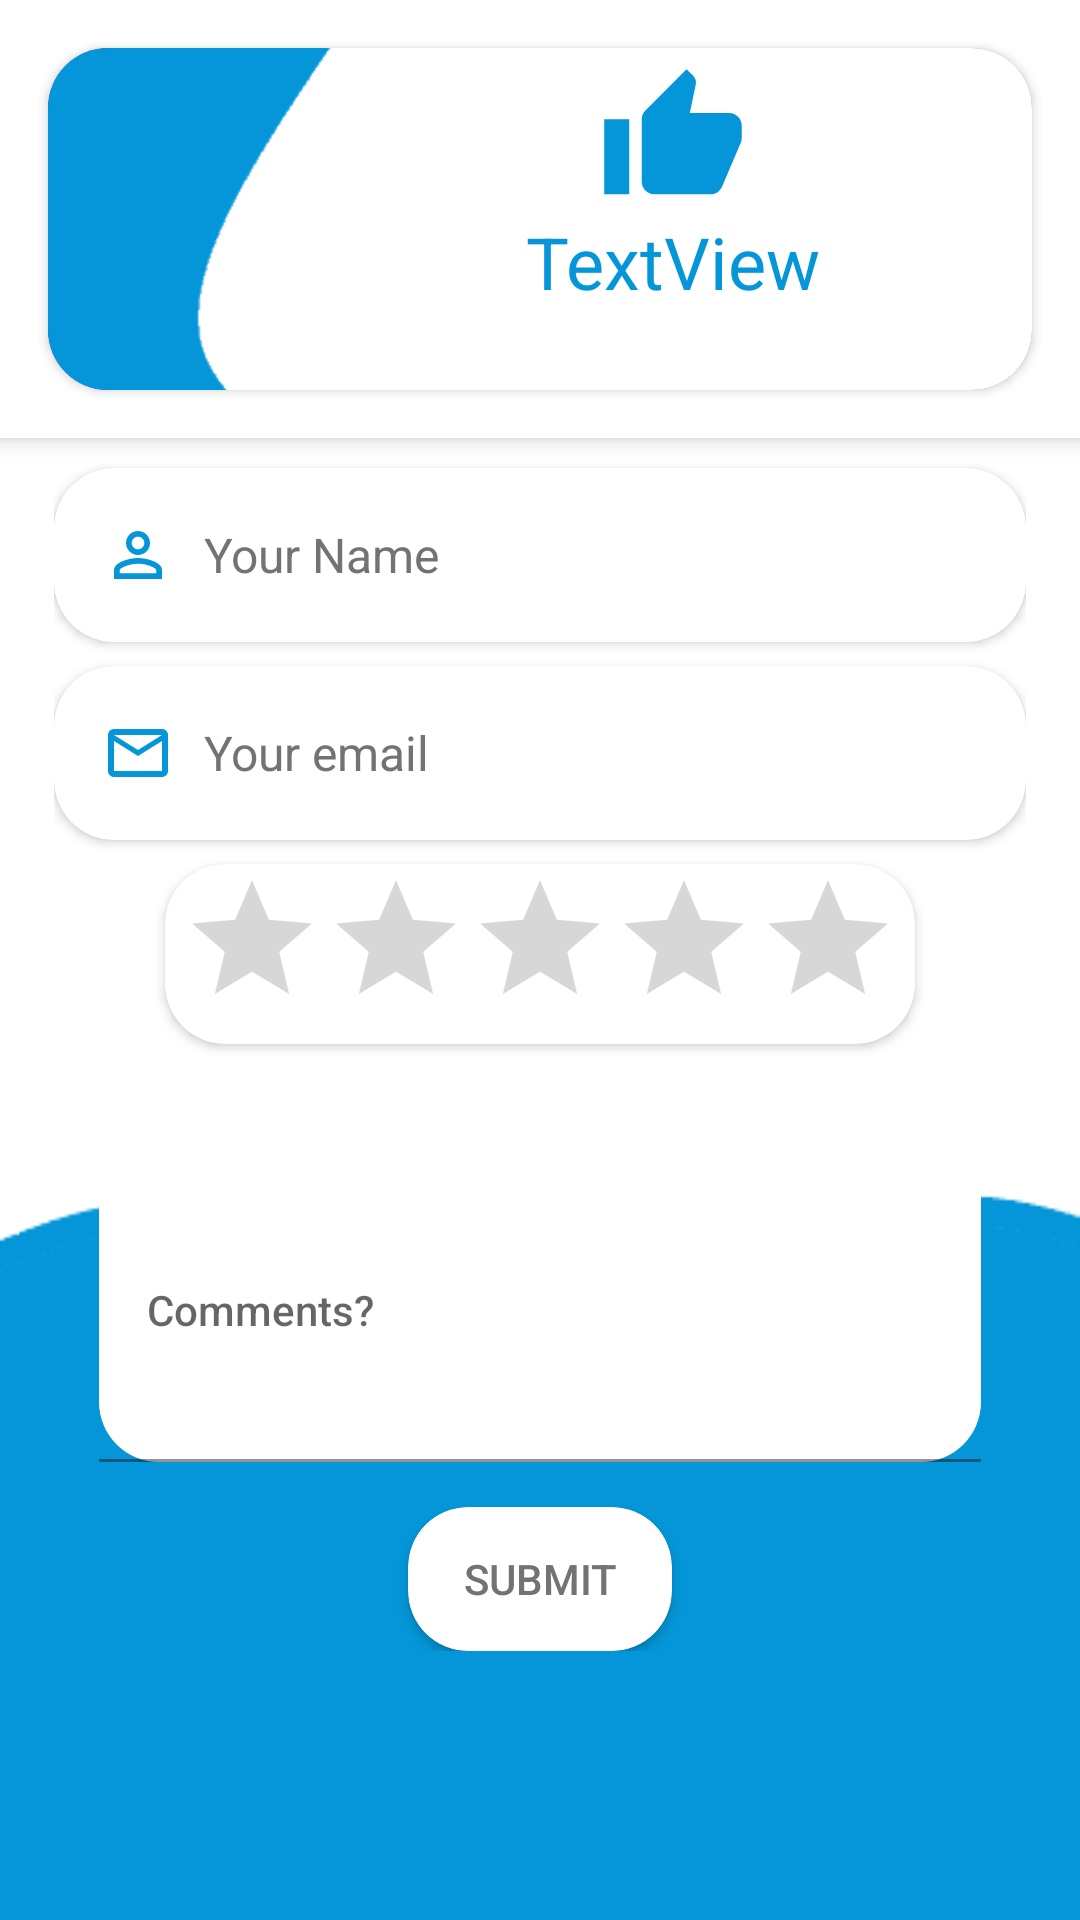

Where to tap for icons on this 1080 x 1920 app screen, as [x,y]:
thumb up: [673,132]
